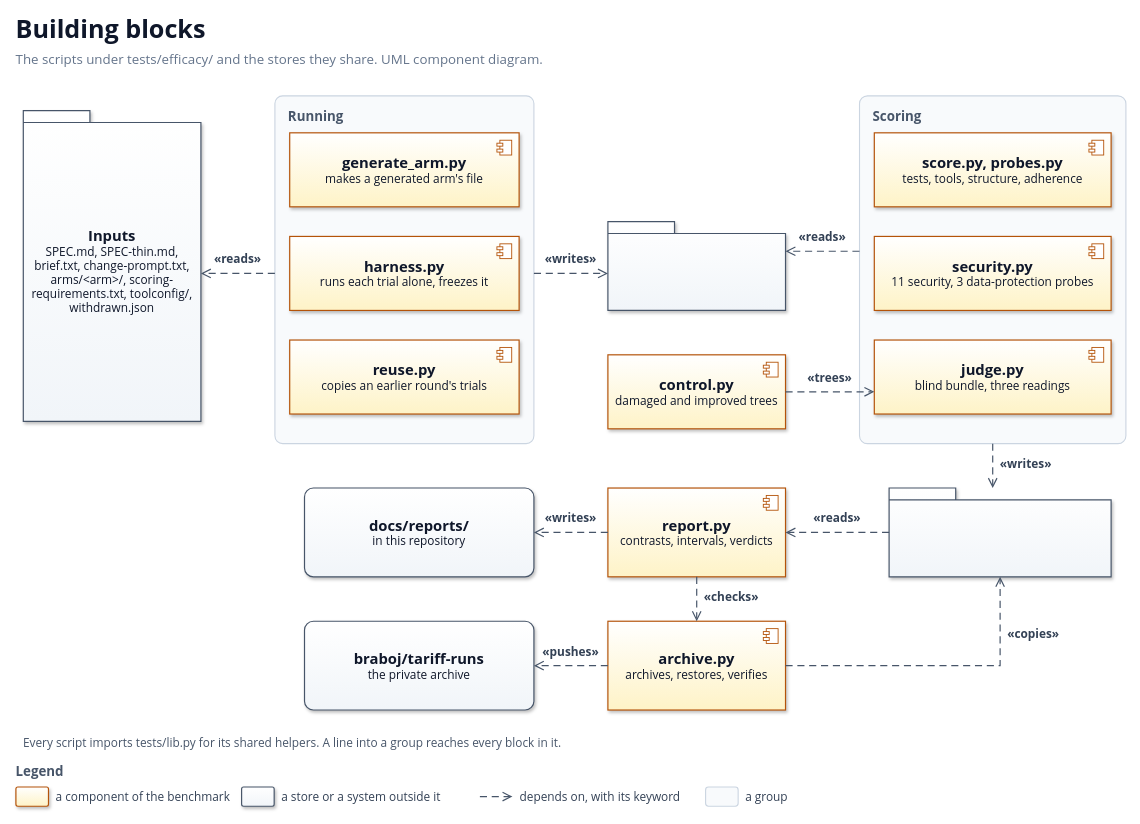
The diagram is 1140 pixels wide and 824 high, and some of its shapes have lost their labels. Each missing label, with the centre of its shape:
"Run root workspaces, tarballs, run records" belongs at (x=697, y=267).
"Scoring area scores, readings, judgings, the tool lock" belongs at (x=1000, y=533).
